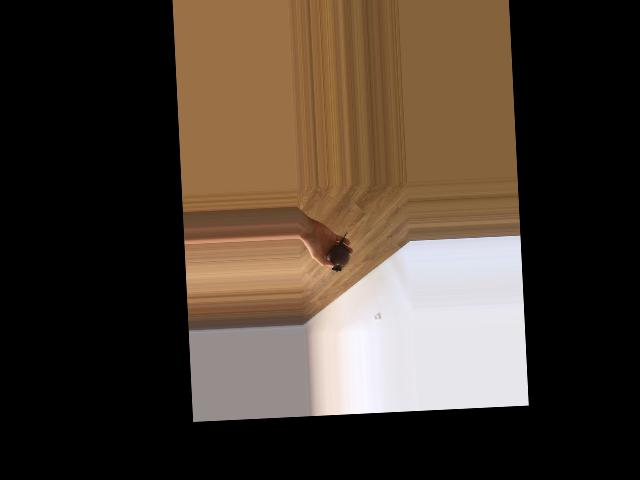beet: (326, 232, 351, 271)
